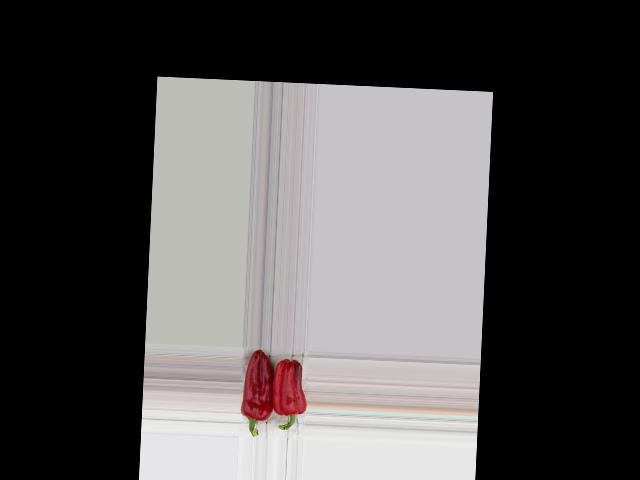bell_pepper: (239, 349, 276, 440)
